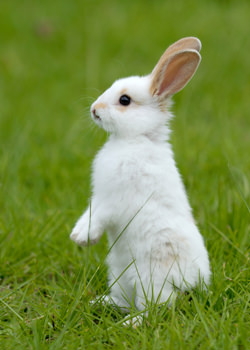bunny: (62, 30, 218, 320)
